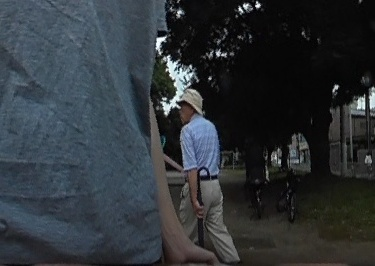person: (166, 86, 238, 264)
